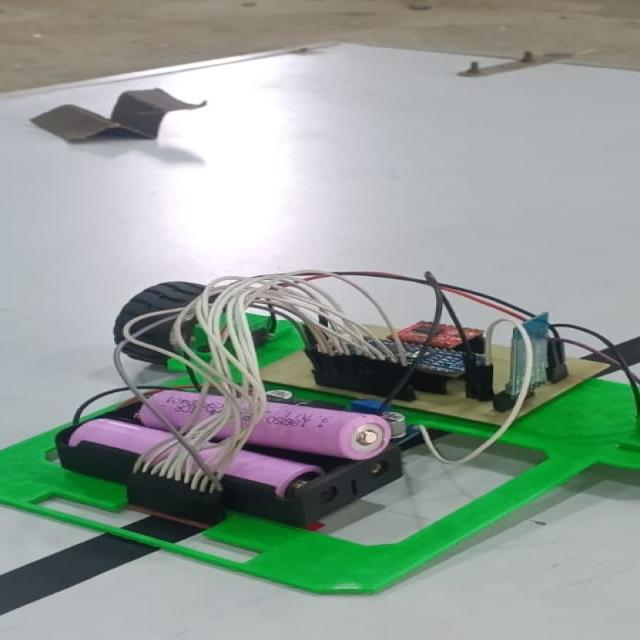vehicle: (0, 266, 640, 574)
